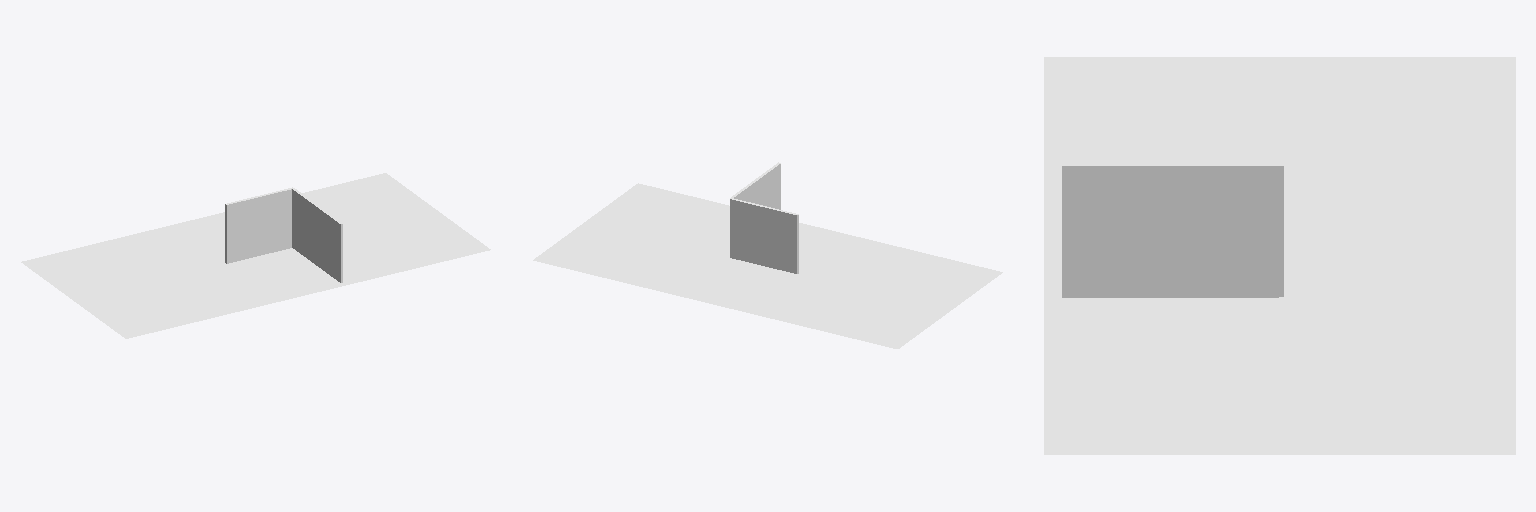
robot.urdf — chair:
<robot name="chair">
  <link name="base_link">
    <visual>
      <origin xyz="0 0 0" rpy="0 0 0" />
      <geometry>
        <mesh filename="package://hpp_environments/meshes/ori/slalom1.stl"/>
      </geometry>
      <material name="white">
        <color rgba="1 1 1 1"/>
      </material>
    </visual>
    <collision>
      <origin xyz="0 0 0" rpy="0 0 0" />
      <geometry>
        <mesh filename="package://hpp_environments/meshes/ori/slalom1.stl"/>
      </geometry>
    </collision>
  </link>
</robot>

--- Facts derived from the render (not from the file) ---
Views: 3 orthographic renders of the robot side by side, from view 1: azimuth 30°, elevation 25°; view 2: azimuth 150°, elevation 25°; view 3: azimuth 270°, elevation 25°.
Model chair with 1 links and 0 joints (none), rooted at base_link, posed every joint at zero.
Visible links, largest first — view 1: base_link; view 2: base_link; view 3: base_link.
Link boxes in pixels (x1,y1,x2,y2): base_link: (21, 173, 490, 338); base_link: (533, 162, 1002, 348); base_link: (1044, 57, 1515, 454).
Bounding box of the posed robot: 2.6 × 1.3 × 0.413 m (x, y, z).
Meshes: 1 distinct files referenced, 1 mesh visuals loaded (1 binary STL).
